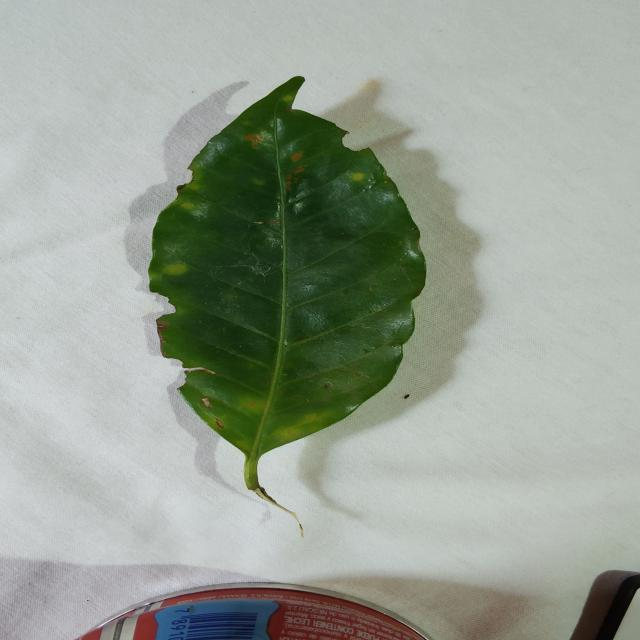Enfermedad-Roya: (146, 77, 428, 496)
